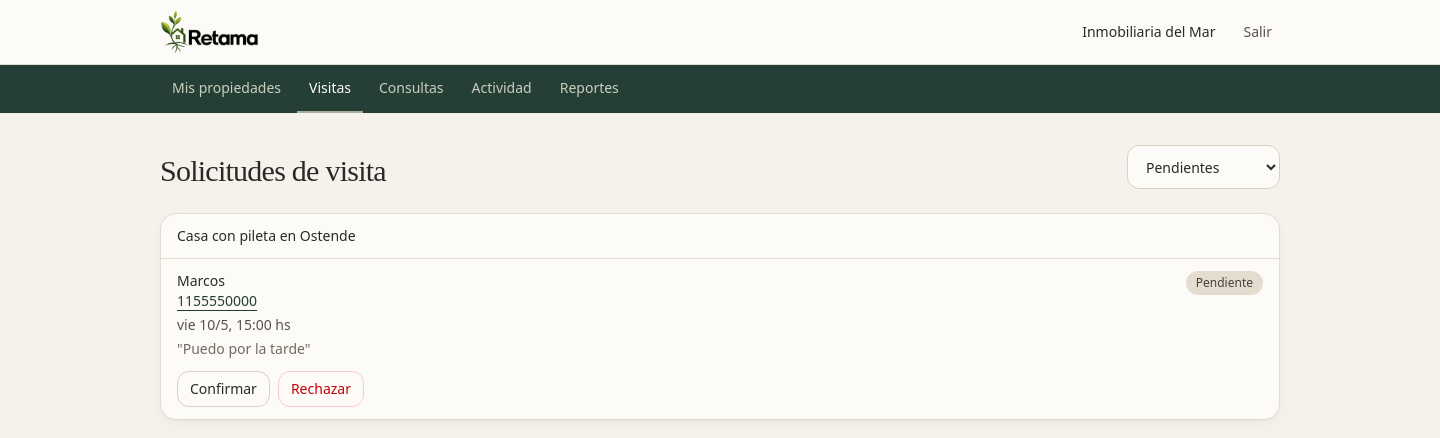
Test case: solicitudes de visita › al confirmar, la solicitud cambia de estado en pantalla sin recargar
The width and height of the screenshot is (1440, 438).
Click the button "Confirmar" at x=223, y=389, box [177,371,270,407]
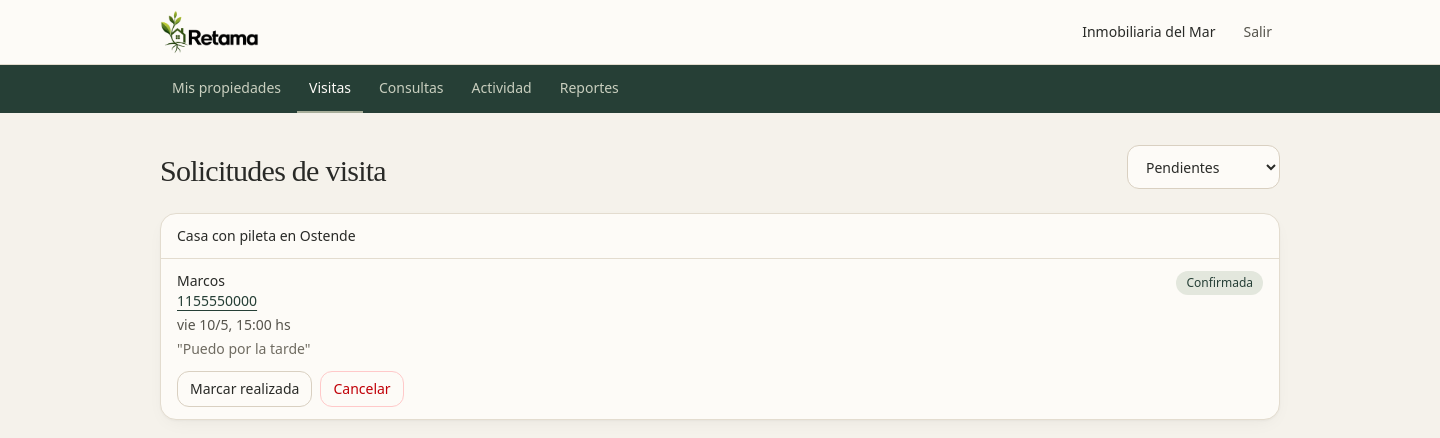
Expected: the text "Confirmada" is shown, [1176,271,1263,295]
Expected: the buttons read "Marcar realizada", "Cancelar", in this order, [177,371,312,407]; [320,371,404,407]
